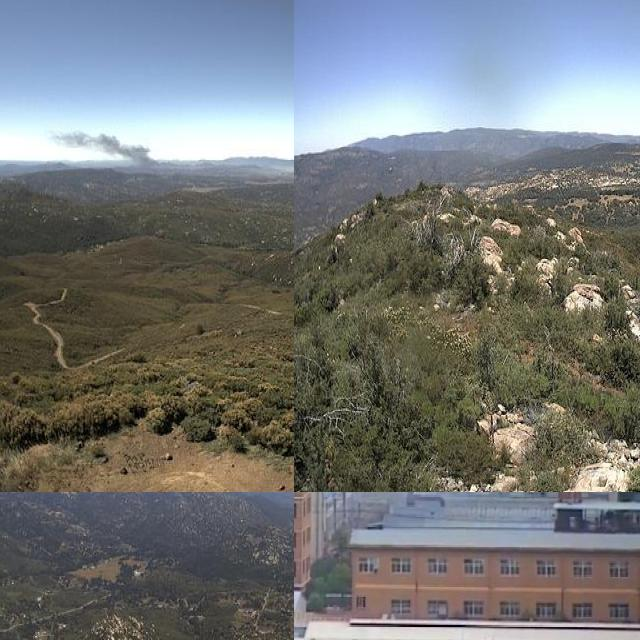smoke: (50, 127, 175, 184)
